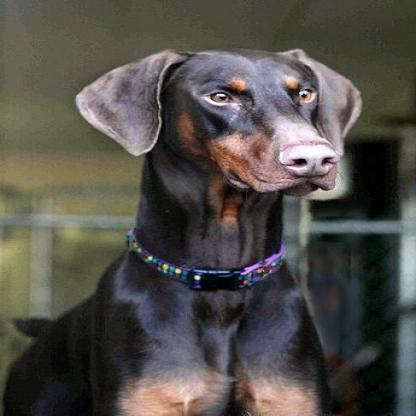Doberman: (0, 46, 361, 413)
